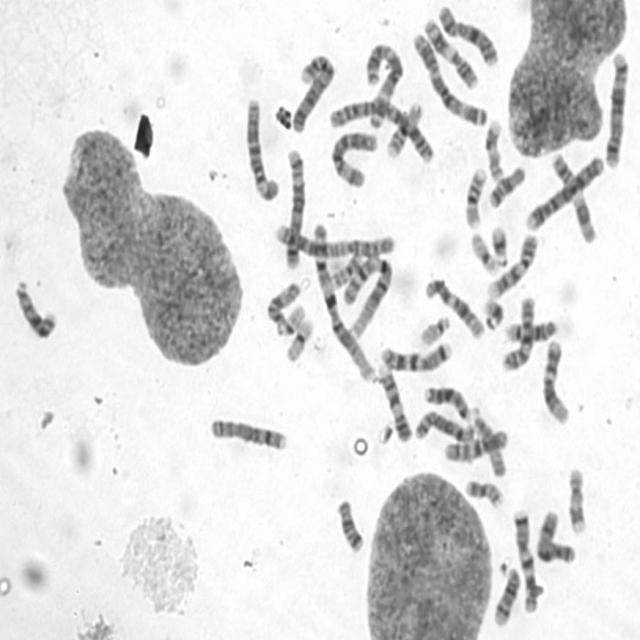A1: (308, 216, 381, 386), (340, 250, 395, 339)
A2: (325, 95, 436, 164), (269, 218, 395, 260)
A3: (411, 25, 491, 127), (363, 38, 405, 130)
B4: (522, 149, 606, 233), (288, 49, 337, 134)
B5: (602, 46, 631, 170), (282, 144, 307, 270)
C10: (498, 290, 538, 373), (441, 422, 511, 463)
C11: (548, 148, 600, 244), (422, 13, 482, 90)
C12: (422, 272, 486, 340), (539, 334, 573, 424)
C6: (242, 92, 281, 203), (328, 126, 381, 189)
C7: (510, 504, 540, 614), (377, 335, 454, 374)
C8: (206, 412, 289, 453), (411, 405, 475, 445)
C9: (483, 228, 540, 300), (373, 359, 413, 444)
D13: (11, 274, 59, 340), (421, 381, 473, 422)
D14: (490, 560, 522, 628), (503, 314, 559, 344)
D15: (467, 401, 509, 480), (262, 277, 303, 334)
E16: (384, 97, 426, 159), (461, 162, 489, 229)
E17: (565, 460, 590, 536), (482, 113, 507, 184)
E18: (485, 160, 527, 209), (333, 493, 366, 555)
F19: (282, 313, 315, 363), (468, 227, 501, 276)
F20: (462, 473, 506, 509), (328, 249, 365, 289)
G21: (479, 293, 506, 332), (488, 220, 510, 266)
G22: (417, 310, 452, 347), (274, 299, 307, 336)
X: (434, 0, 501, 68), (532, 505, 578, 565)
